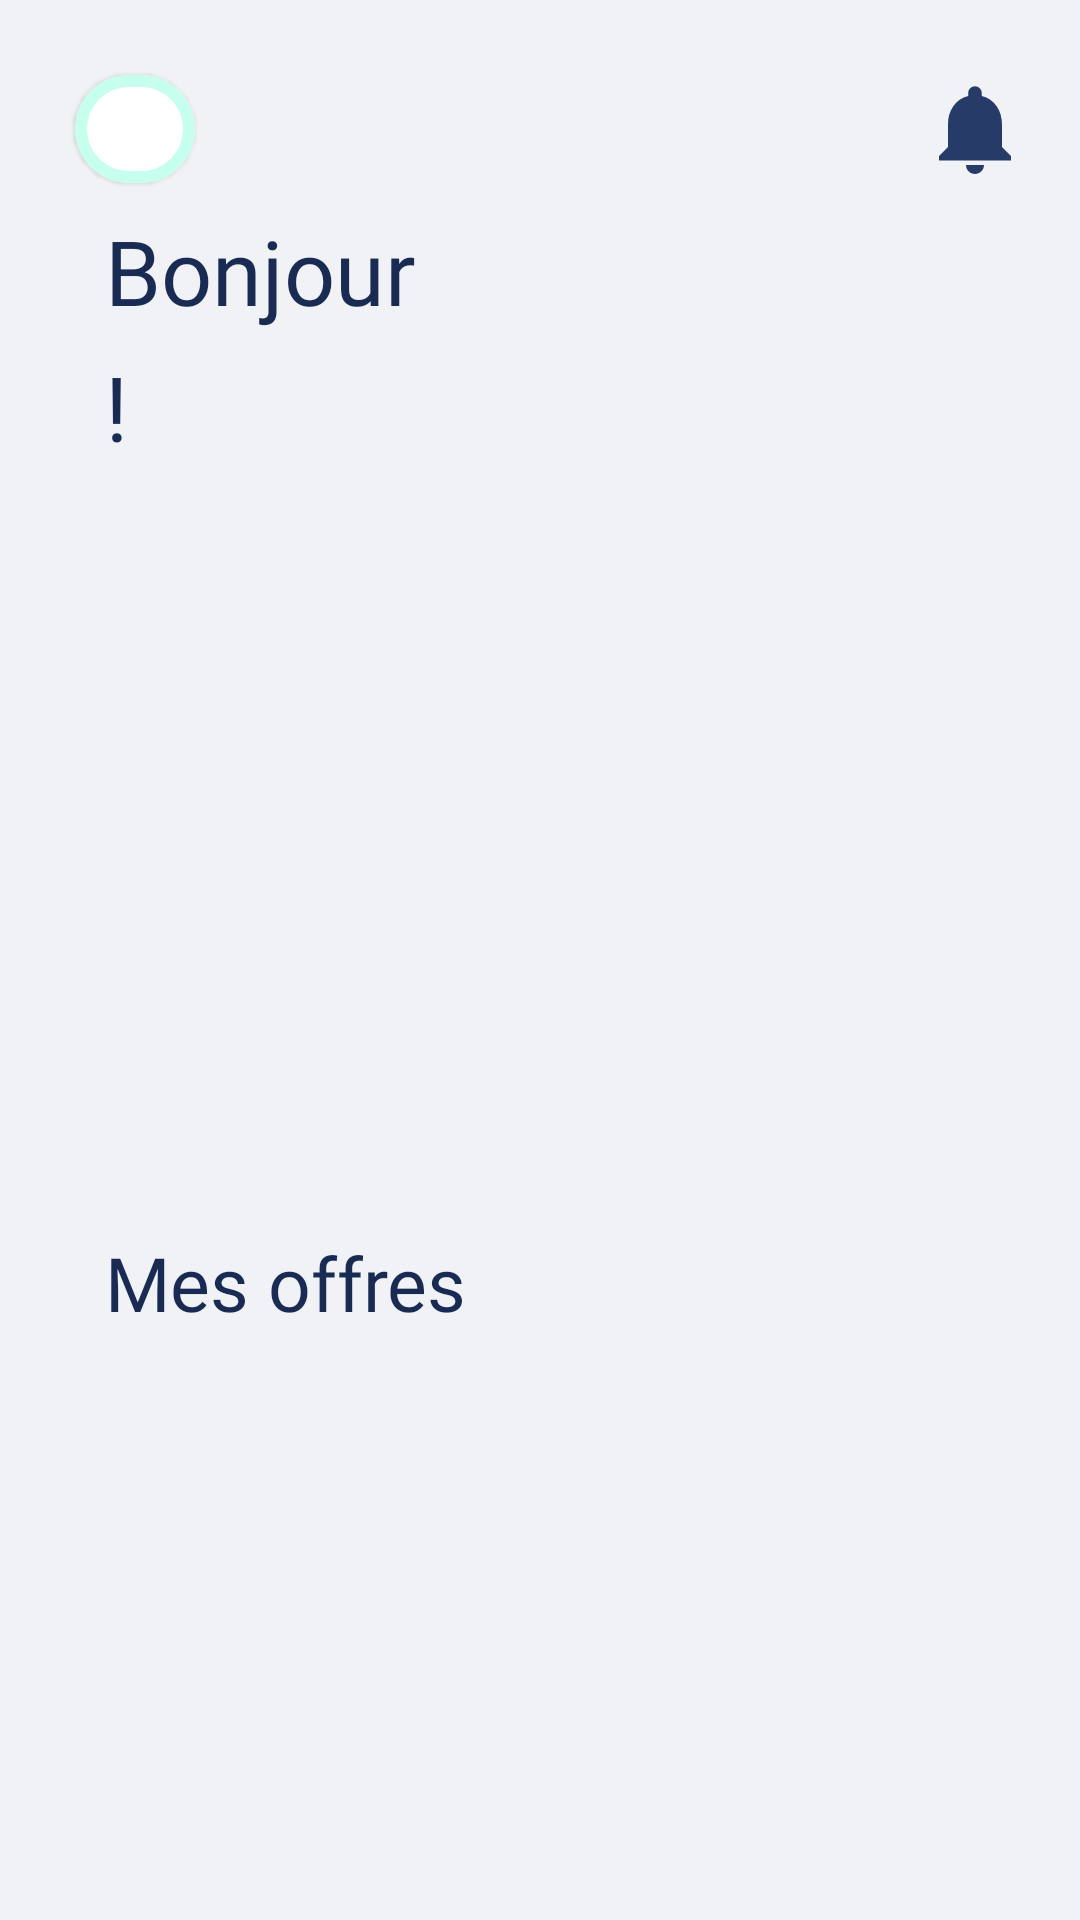

Where to tap for icons on this 1080px x 1920px app screen, as (x,y):
notification: (975,130)
